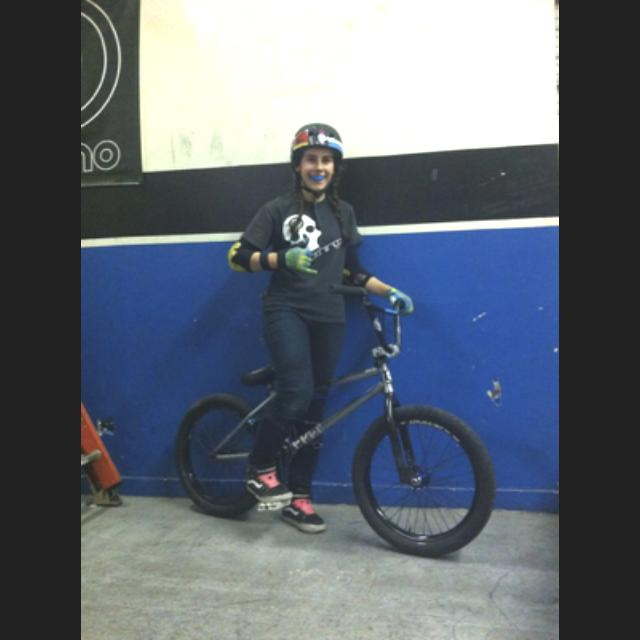Without Helmet: (281, 109, 353, 211)
